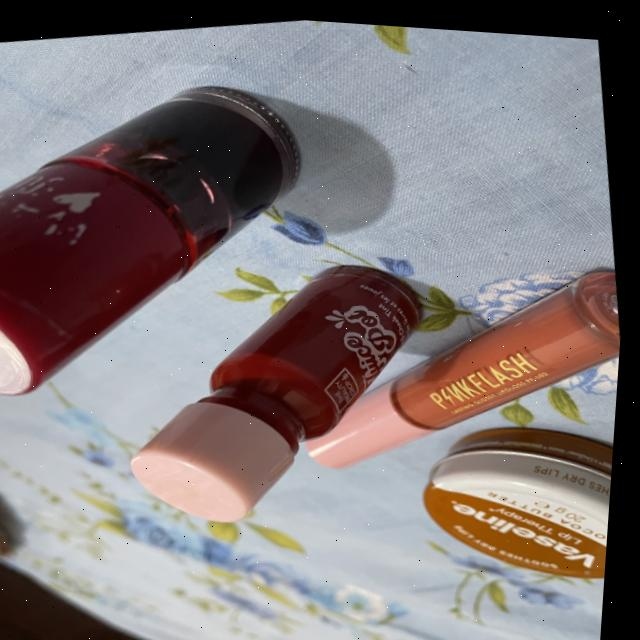Tint: (0, 42, 376, 426), (96, 242, 462, 545)
lip balm: (407, 400, 620, 608)
lip gloss: (279, 239, 628, 510)
